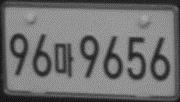5: (126, 36, 146, 80)
6: (149, 36, 172, 81), (32, 32, 52, 77), (102, 35, 122, 79)
9: (79, 34, 99, 79), (10, 32, 29, 77)
마: (52, 42, 75, 79)
